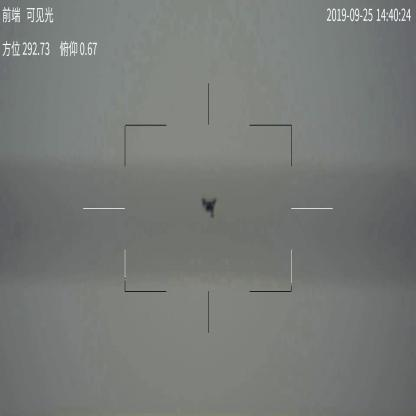uav: (201, 196, 220, 220)
